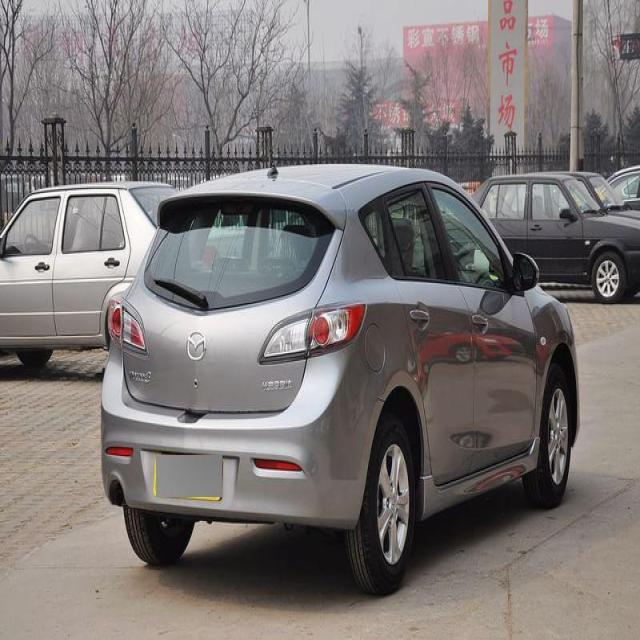back_glass: (142, 202, 331, 312)
back_left_side_light: (104, 291, 150, 361)
back_right_side_light: (258, 292, 368, 370)
door: (382, 201, 482, 508)
front_right_side_door: (426, 177, 541, 476)
front_right_side_mirror: (510, 251, 540, 294)
rear_bumper: (98, 344, 384, 533)
wheel: (346, 411, 415, 587), (527, 364, 572, 498)
